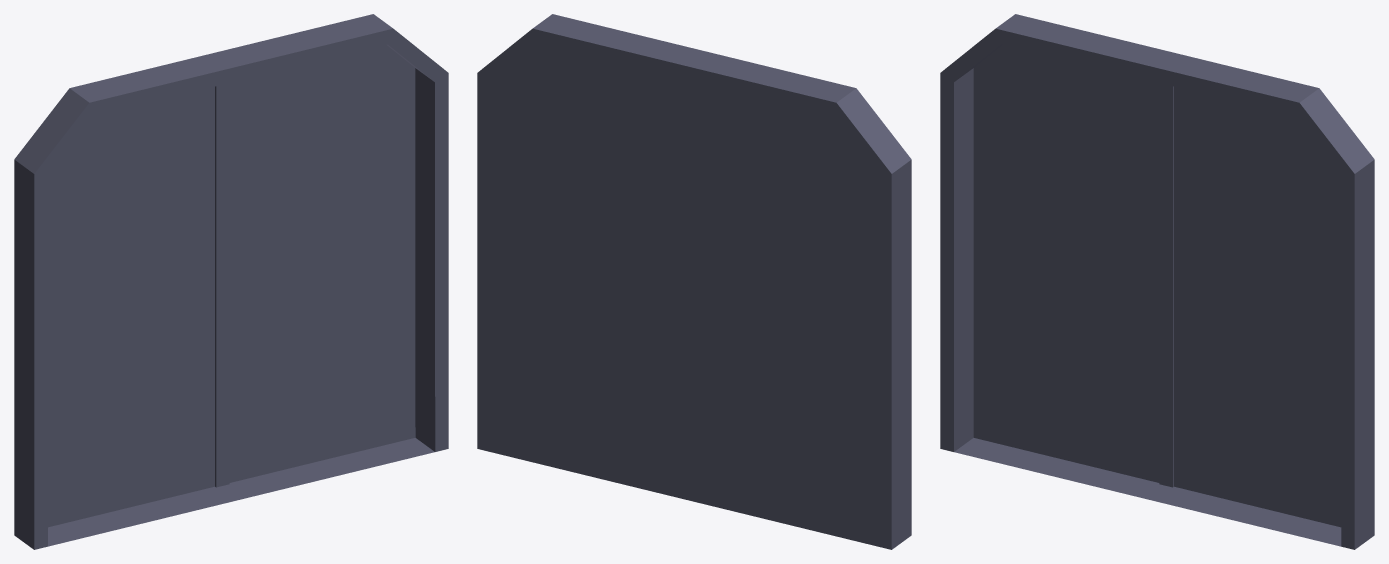
The model's file is Lift.fbx.
3 views of the same model, side by side, from view 1: azimuth 30°, elevation 25°; view 2: azimuth 150°, elevation 25°; view 3: azimuth 330°, elevation 25° (orthographic).
Visible parts, largest first — view 1: Lift; view 2: Lift; view 3: Lift.
Boxes of the visible parts, <box> form: Lift: <box>14,14,448,549</box>; Lift: <box>477,14,911,549</box>; Lift: <box>940,14,1374,549</box>.
Size of the model in its own units: 152 by 152 by 12.7.
Materials: 1 (1 with a texture image).
